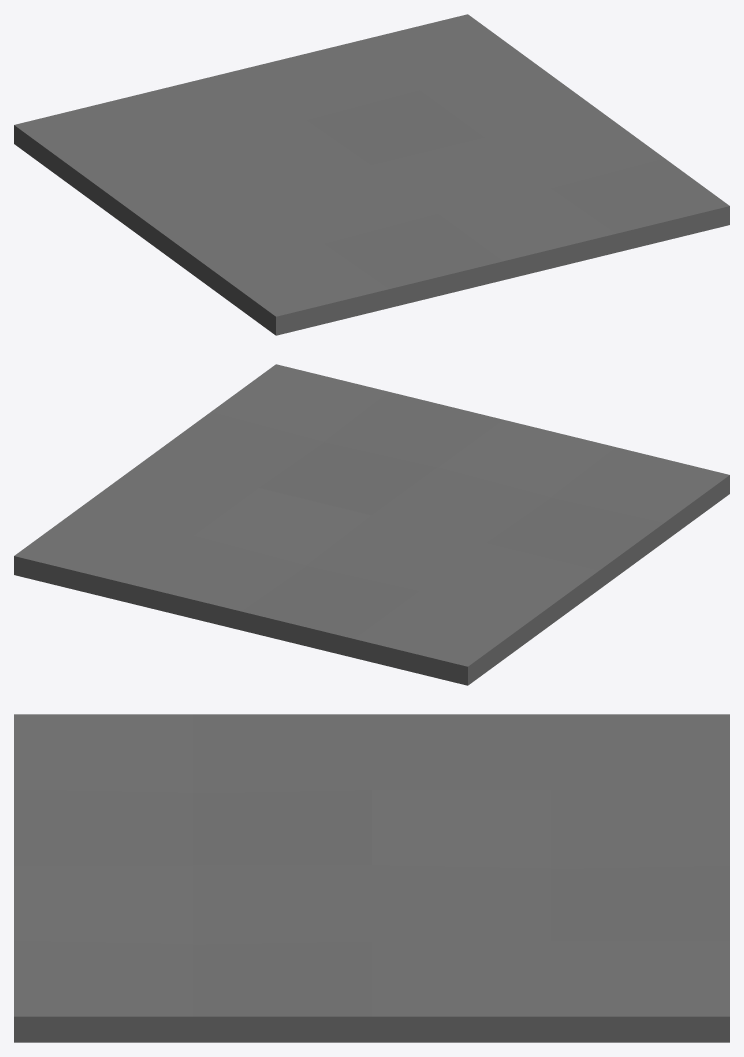
File: RoofMiddle.fbx
3 renders of one model, top to bottom at view 1: azimuth 30°, elevation 25°; view 2: azimuth 150°, elevation 25°; view 3: azimuth 270°, elevation 25°, orthographic. The views are drawn at different scales.
Visible parts, largest first — view 1: RoofMiddle; view 2: RoofMiddle; view 3: RoofMiddle.
Boxes of the visible parts, x1,y1,x2,y2 form: RoofMiddle: (14,14,729,335); RoofMiddle: (14,364,729,685); RoofMiddle: (14,714,729,1042).
Size of the model in its own units: 100 by 4 by 100.
